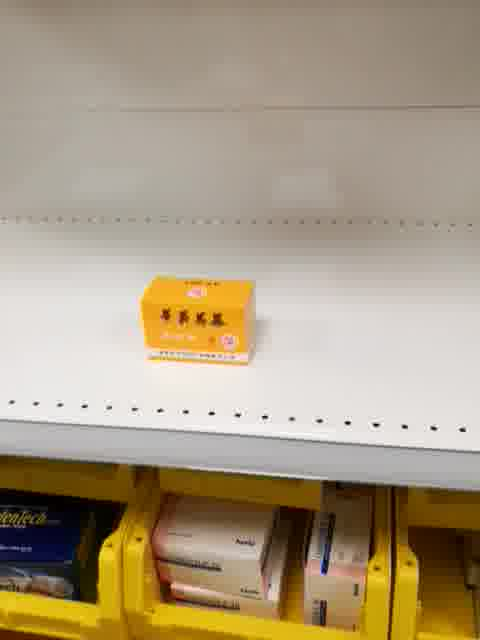jasminetea: (139, 275, 257, 369)
